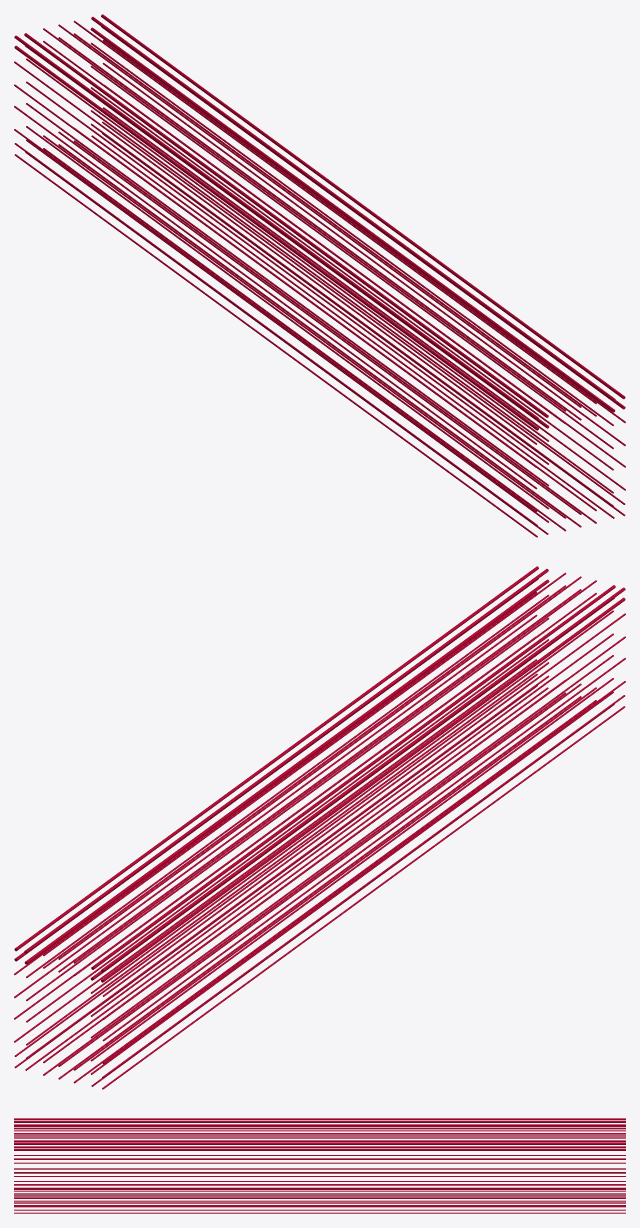
The model's file is 04_01_Bewehrung_Torsionsbalken_Laengs.gltf.
The picture shows the model from 3 angles, top to bottom: view 1: azimuth 30°, elevation 25°; view 2: azimuth 150°, elevation 25°; view 3: azimuth 270°, elevation 25°; orthographic projection. The views are drawn at different scales.
Visible parts, largest first — view 1: Längs Eisen; view 2: Längs Eisen; view 3: Längs Eisen.
Boxes of the visible parts, box(x1,y1,x2,y2) form: Längs Eisen: box(14, 14, 625, 537); Längs Eisen: box(14, 566, 625, 1089); Längs Eisen: box(14, 1118, 625, 1213).
Bounding box in the file's own units: 70.6 × 90.6 × 706.
